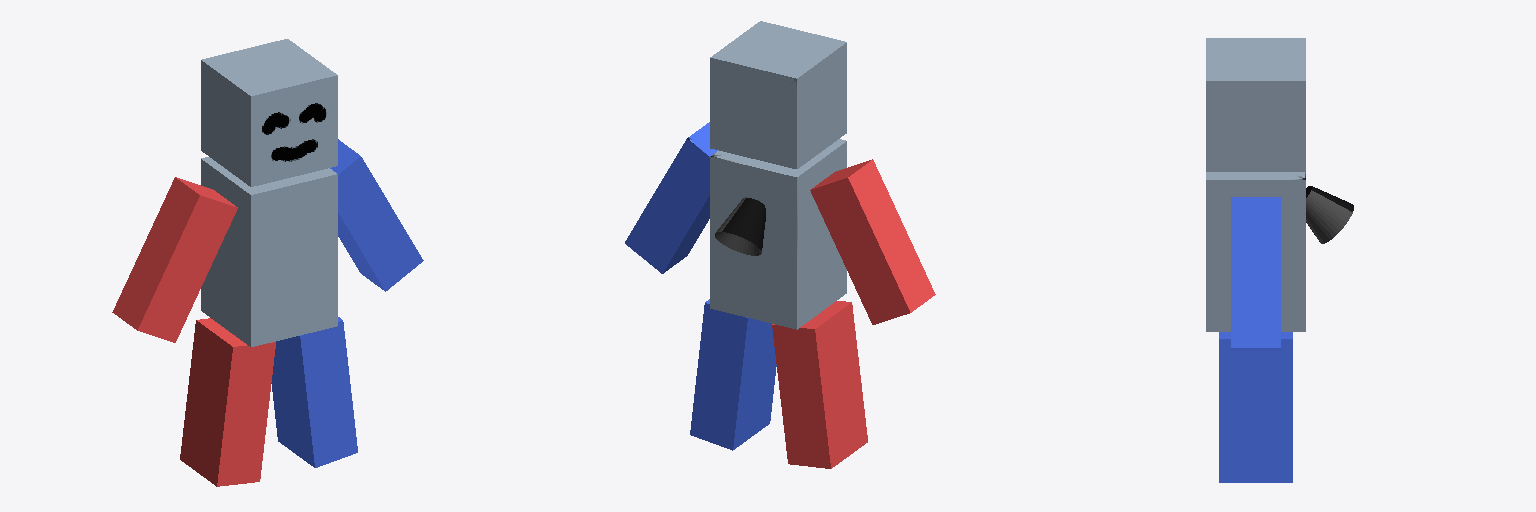
The picture shows the model from 3 angles: view 1: azimuth 30°, elevation 25°; view 2: azimuth 150°, elevation 25°; view 3: azimuth 270°, elevation 25°; orthographic projection.
Parts seen in each view (by area): view 1: Cube; view 2: Cube; view 3: Cube.
Boxes of the visible parts, x1,y1,x2,y2 form: Cube: [112, 39, 423, 486]; Cube: [625, 21, 935, 468]; Cube: [1206, 38, 1353, 482].
Bounding box in the file's own units: 2.37 × 3.12 × 1.07.
Materials: 1 (1 with a texture image).